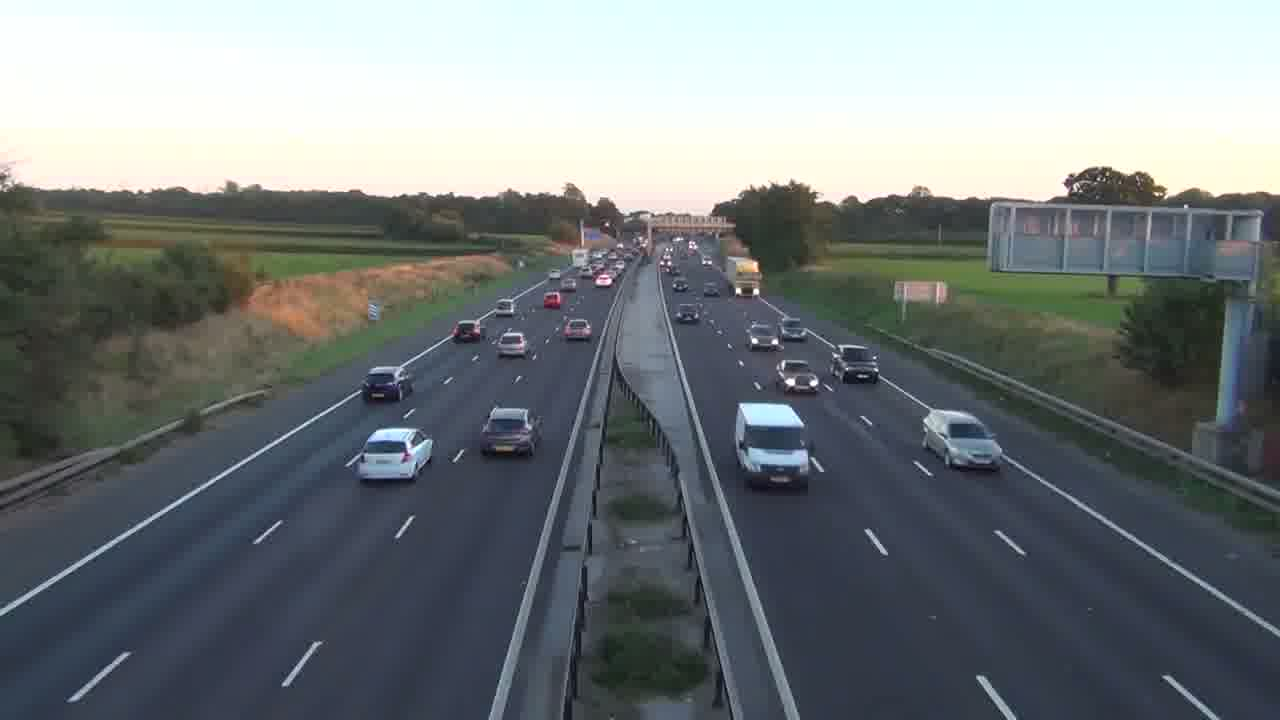car: (921, 408, 1004, 472), (353, 426, 434, 482), (478, 405, 543, 456), (831, 345, 880, 383), (774, 359, 820, 395), (361, 366, 404, 401), (495, 330, 531, 359), (561, 318, 593, 342)
truck: (733, 401, 815, 490)
